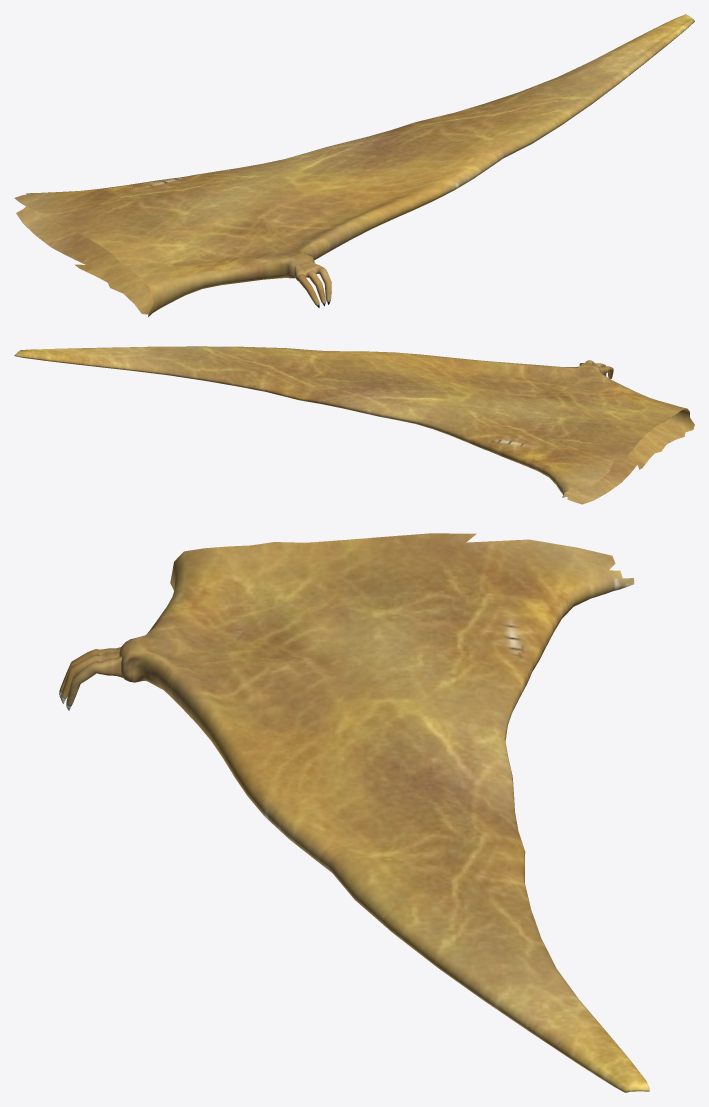
The model's file is AlaIzqPtera.obj.
The picture shows the model from 3 angles, top to bottom: view 1: azimuth 30°, elevation 25°; view 2: azimuth 150°, elevation 25°; view 3: azimuth 270°, elevation 25°; orthographic projection. The views are drawn at different scales.
Parts seen in each view (by area): view 1: AlaIzqPtera; view 2: AlaIzqPtera; view 3: AlaIzqPtera.
Part boxes in pixels (x1,y1,x2,y2): AlaIzqPtera: (14, 14, 694, 316); AlaIzqPtera: (14, 346, 694, 504); AlaIzqPtera: (59, 533, 649, 1092).
Size of the model in its own units: 41.64 by 2.29 by 18.78.
Materials: 1 (1 with a texture image).
